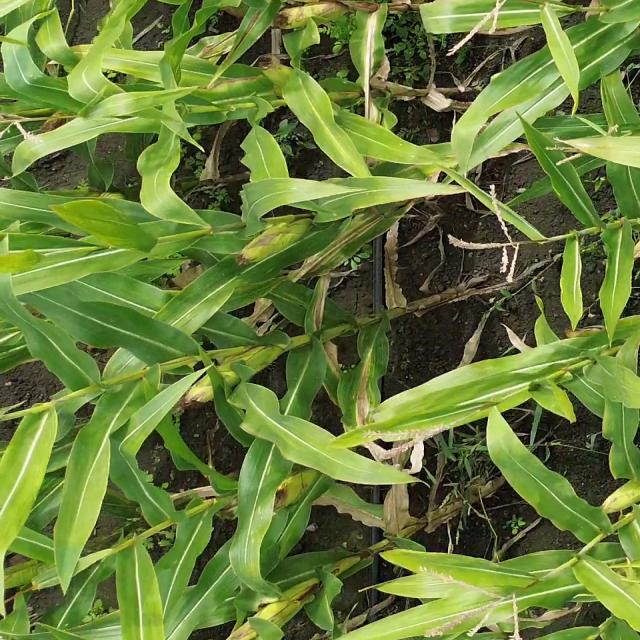gray-leaf-spot: (538, 114, 594, 137)
northern-leaf-blight: (310, 290, 344, 371), (360, 13, 387, 114), (348, 358, 378, 430), (328, 222, 376, 255), (239, 6, 266, 48)
southern-leaf-blight: (244, 503, 272, 551)
